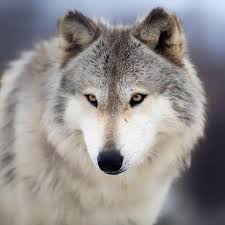wolf: (3, 22, 200, 225)
